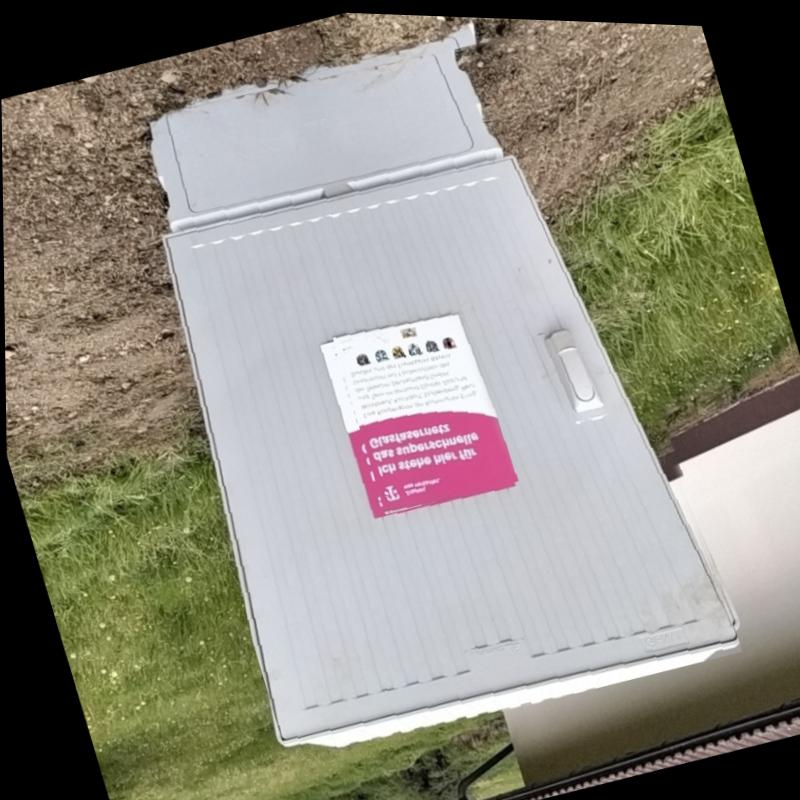NT-Gehause: (160, 41, 732, 750)
Steaker: (332, 303, 517, 510)
